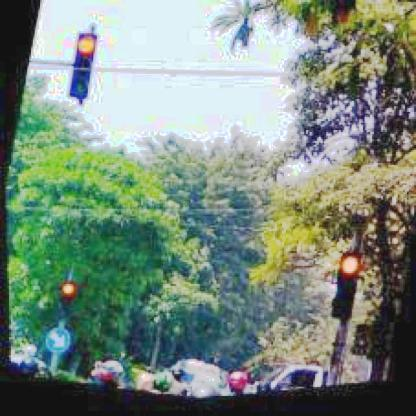Traffic Light -Red-: (326, 257, 363, 329), (64, 32, 101, 104)
